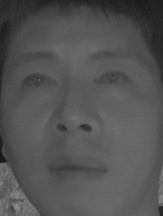eye: (19, 71, 61, 95), (91, 68, 133, 90)
mouth: (42, 145, 110, 190)
